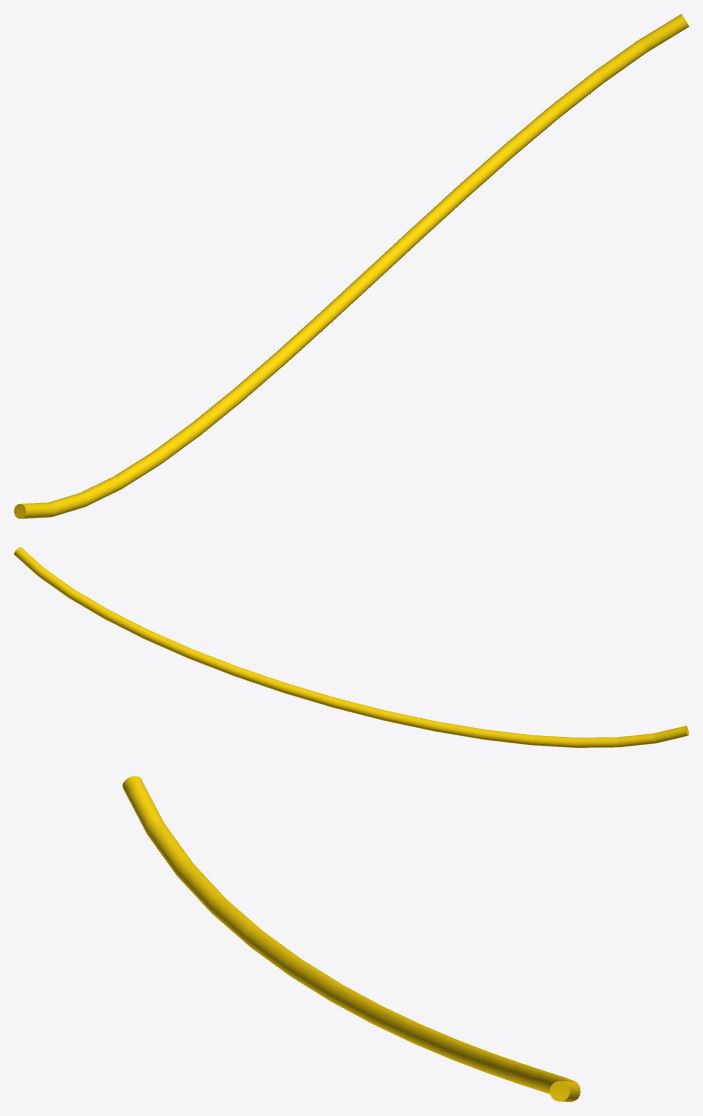
The model's file is Event_421278790_track_37.fbx.
The picture shows the model from 3 angles, top to bottom: view 1: azimuth 30°, elevation 25°; view 2: azimuth 150°, elevation 25°; view 3: azimuth 270°, elevation 25°; orthographic projection. The views are drawn at different scales.
Parts seen in each view (by area): view 1: Model; view 2: Model; view 3: Model.
Boxes of the visible parts, bbox=[...] form: Model: bbox=[14, 14, 688, 518]; Model: bbox=[14, 547, 688, 747]; Model: bbox=[122, 776, 580, 1101].
Size of the model in its own units: 2.54 by 0.632 by 0.889.
